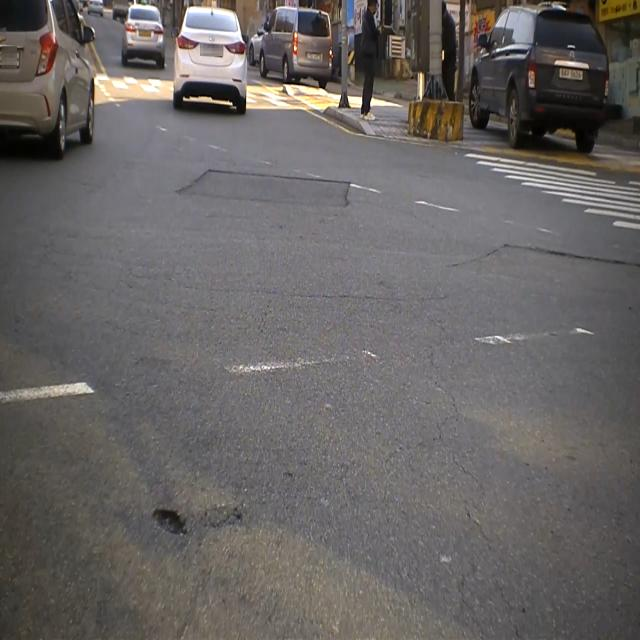Pothole: (137, 497, 251, 555)
